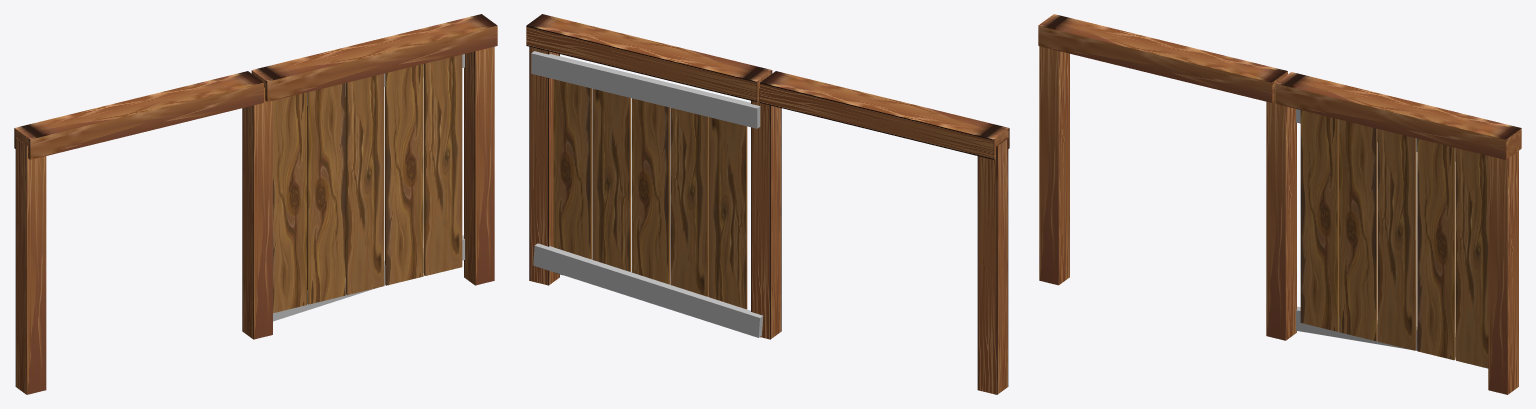
File: DoorPlacement.fbx
3 renders of one model, left to right at view 1: azimuth 30°, elevation 25°; view 2: azimuth 150°, elevation 25°; view 3: azimuth 330°, elevation 25°, orthographic.
Parts seen in each view (by area): view 1: polySurface9; view 2: polySurface9; view 3: polySurface9.
Part boxes in pixels (x1,y1,x2,y2): polySurface9: (14,14,497,394); polySurface9: (526,14,1009,394); polySurface9: (1038,14,1521,394).
Size of the model in its own units: 21.67 by 11.35 by 1.34.
